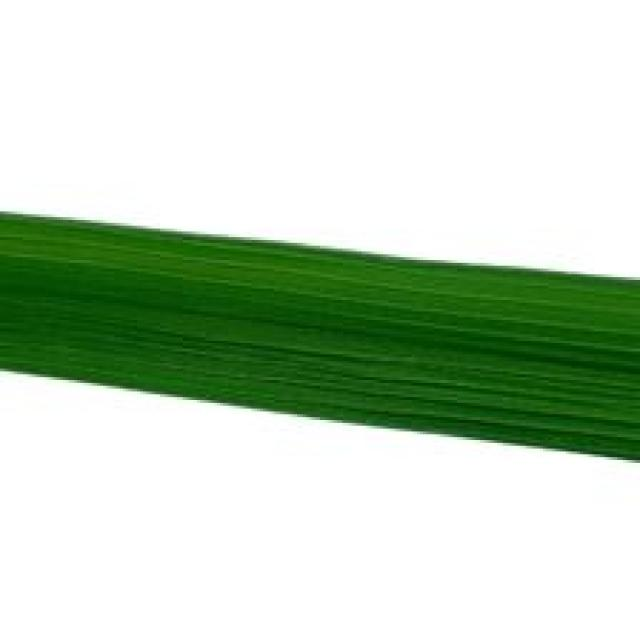Rice___Healthy_Rice_Plant: (0, 211, 637, 464)
